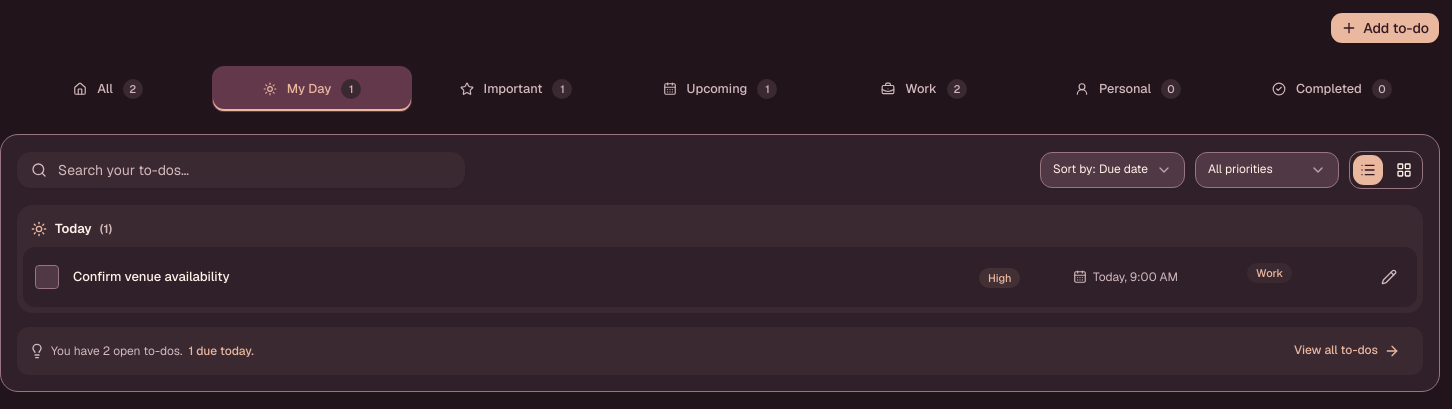
Test case: TodoManager › switches to Upcoming and shows the future, not-yet-completed item
The image size is (1452, 409).
Expected: the text "Confirm venue availability" is shown, [73, 268, 230, 285]
Click the button "Upcoming 1": (720, 89) [620, 66, 820, 112]
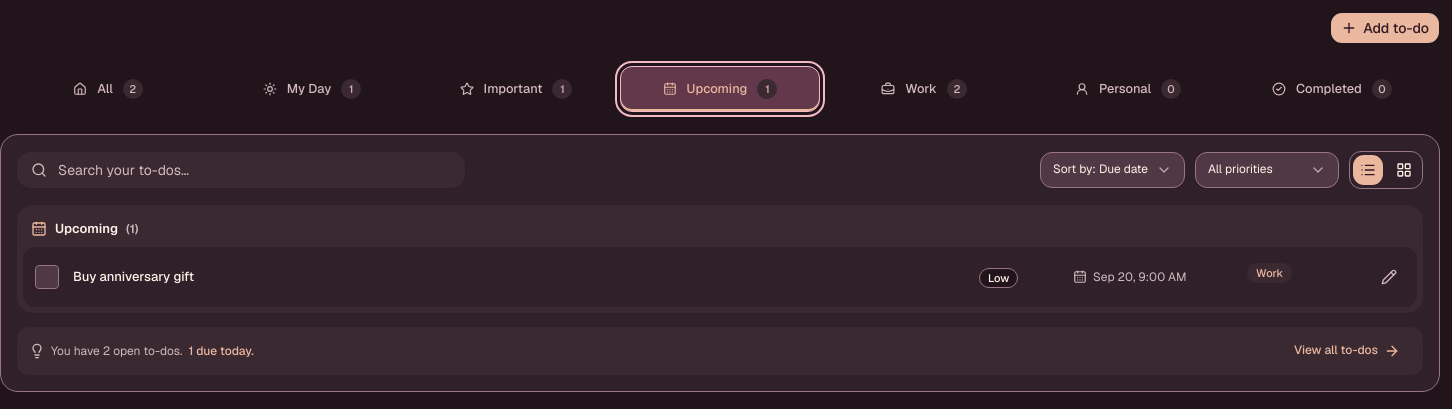
Now the text "Buy anniversary gift" is shown, box [73, 268, 194, 285]
Now the button "Confirm venue availability" is gone
